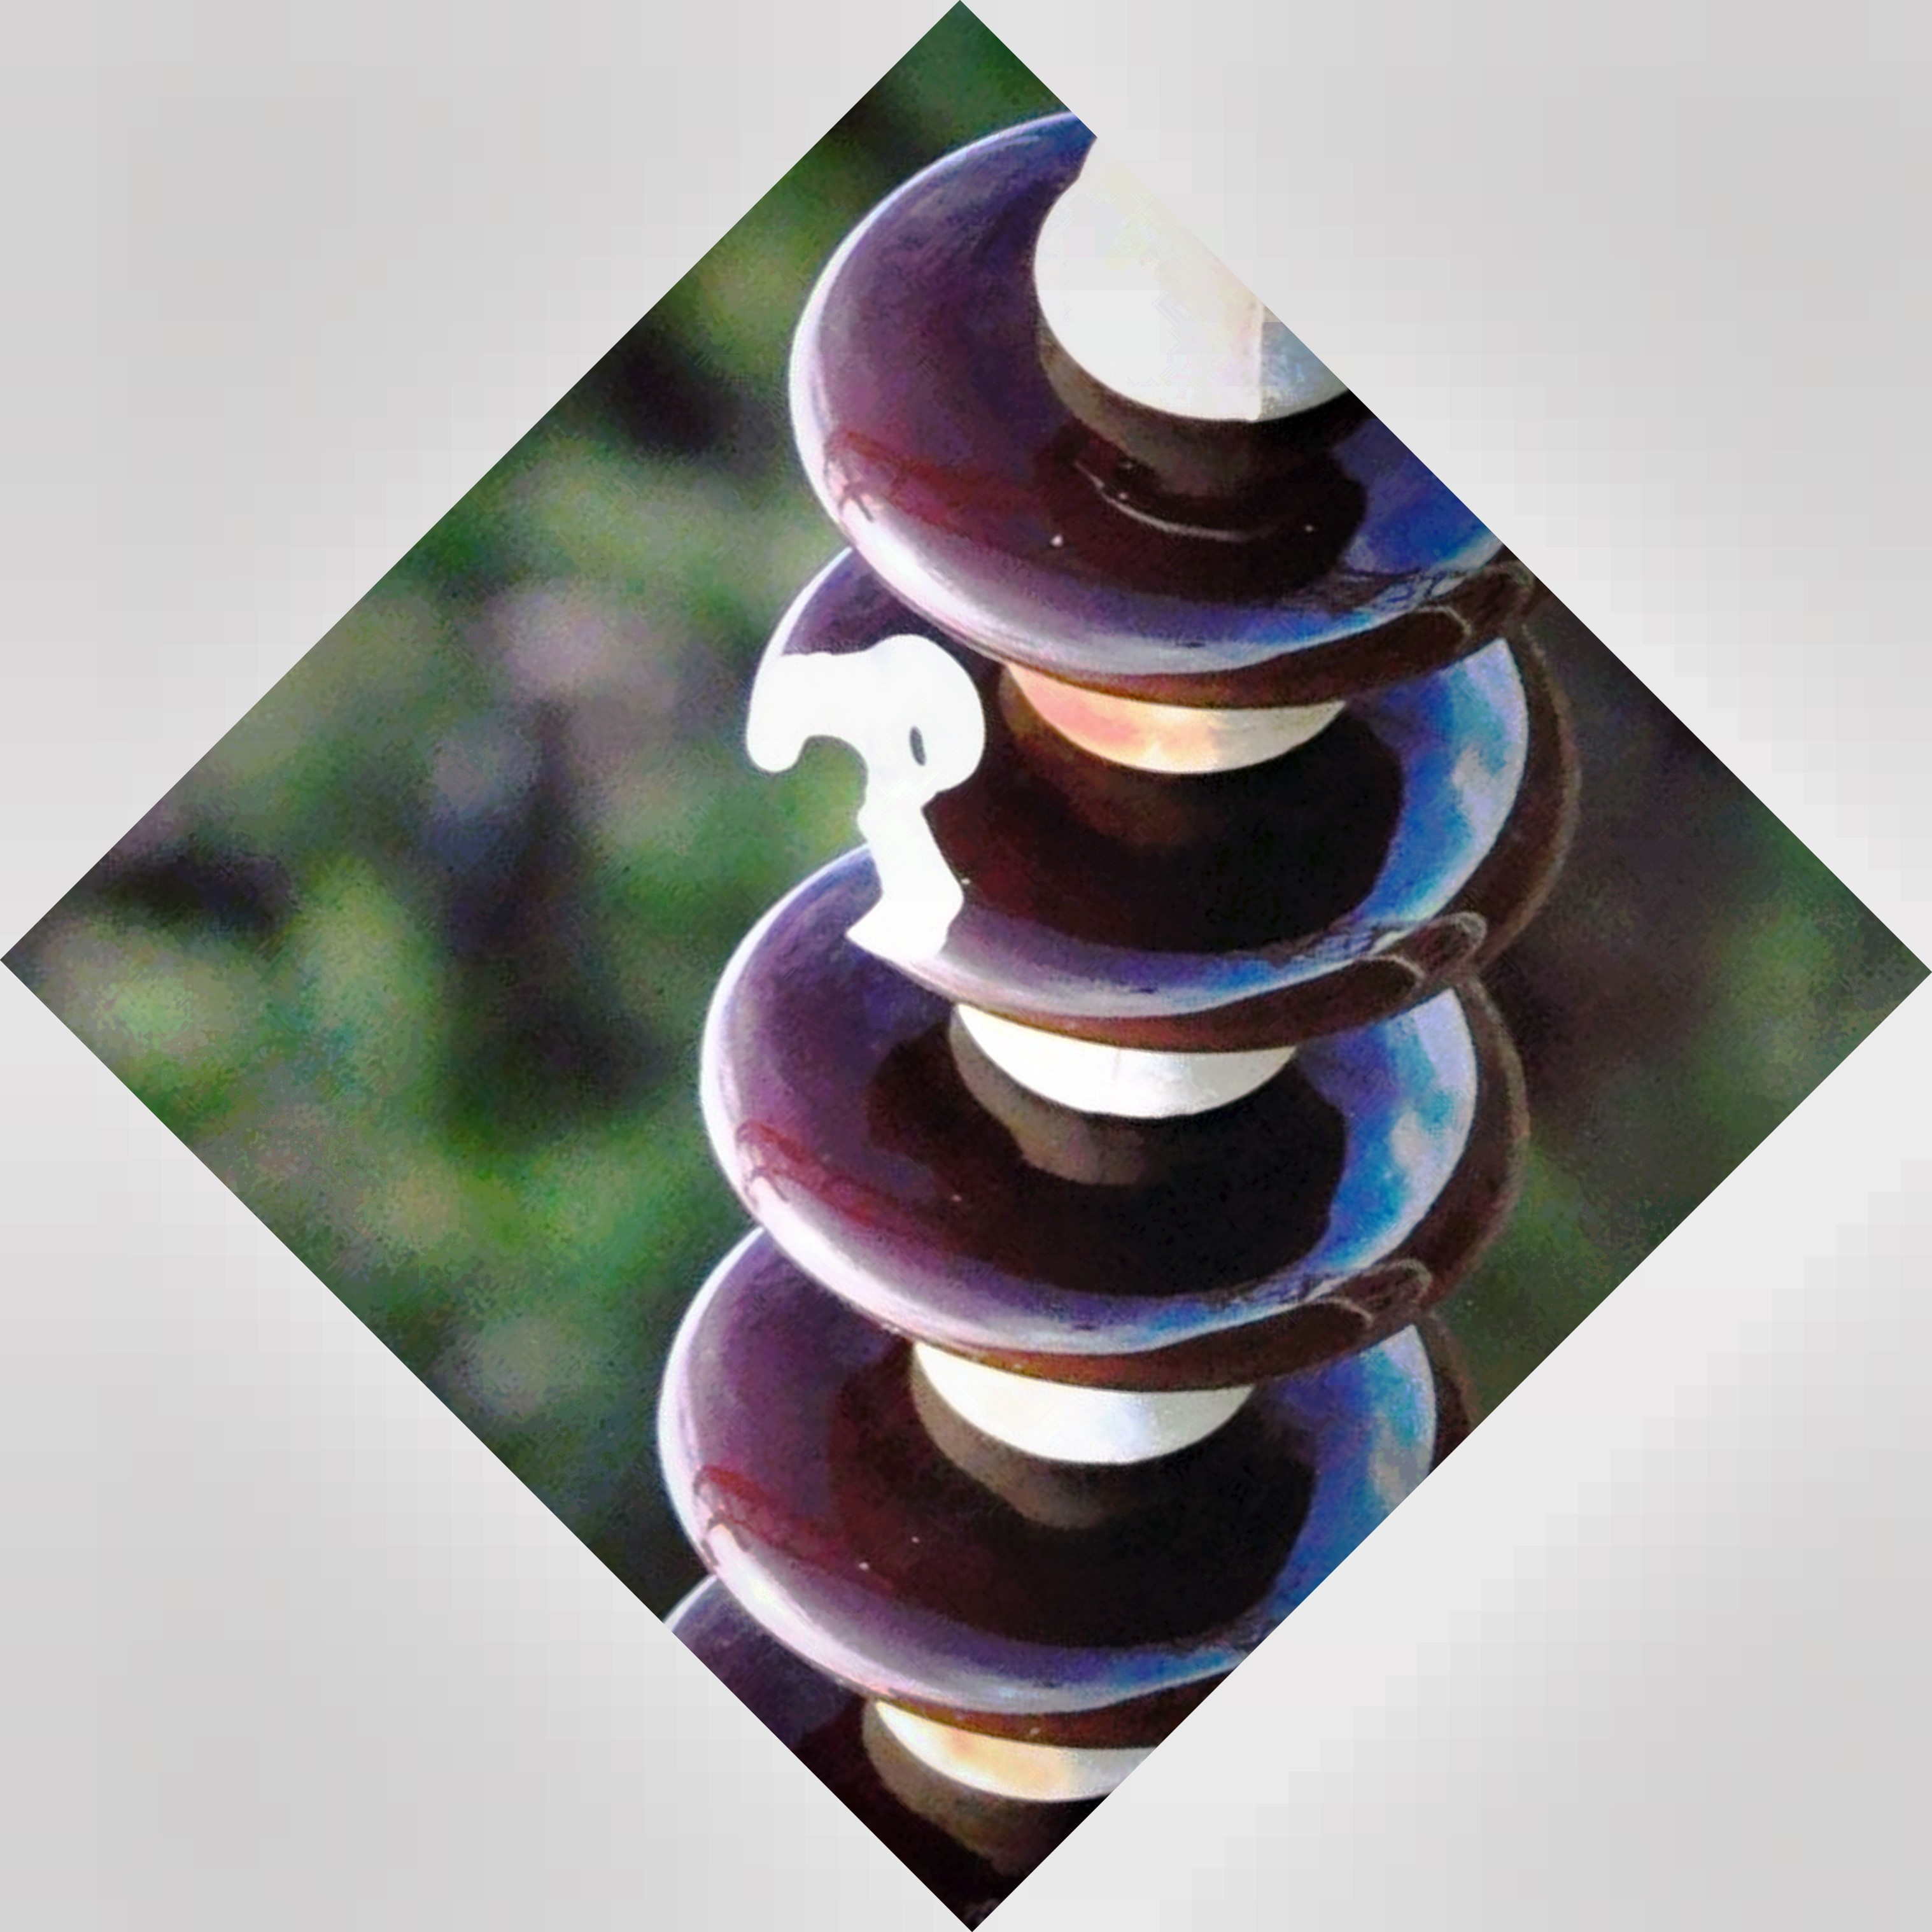insulator breakage: (708, 582, 1614, 1065)
